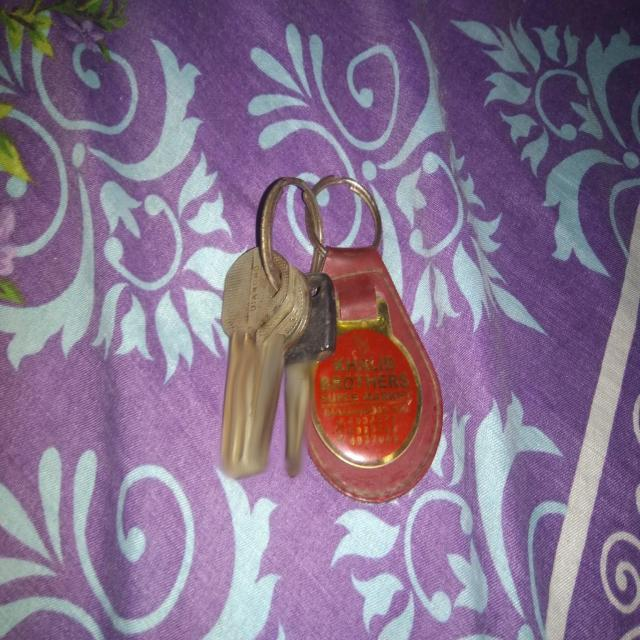Frontdoor keys: (214, 245, 287, 476), (296, 247, 333, 482)
